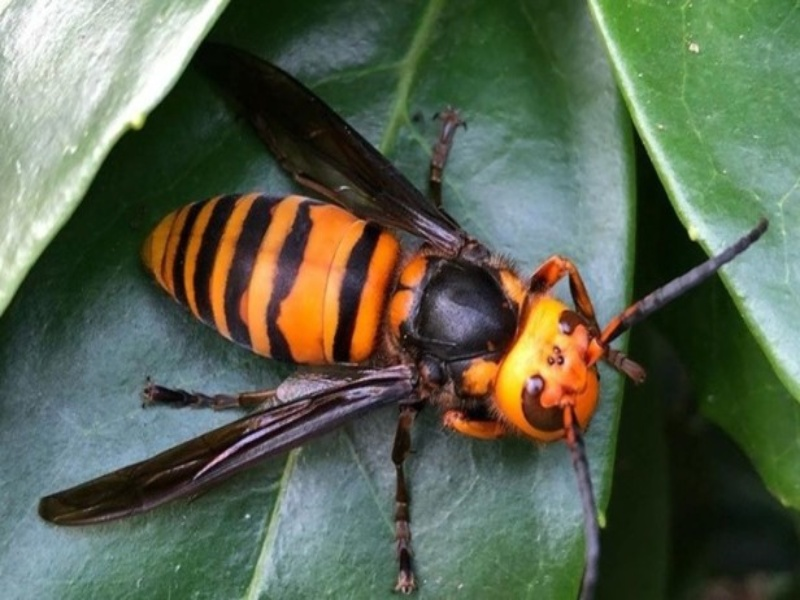asian_giant_hornet: (138, 164, 665, 450)
